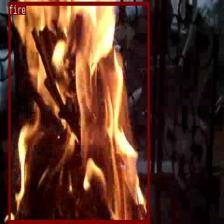fire: (8, 1, 149, 222)
